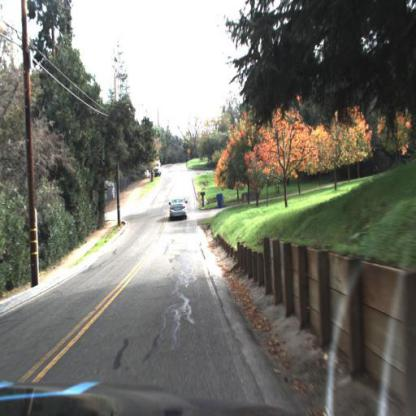car: (165, 188, 194, 226), (153, 163, 164, 179)
truck: (155, 162, 164, 180)
